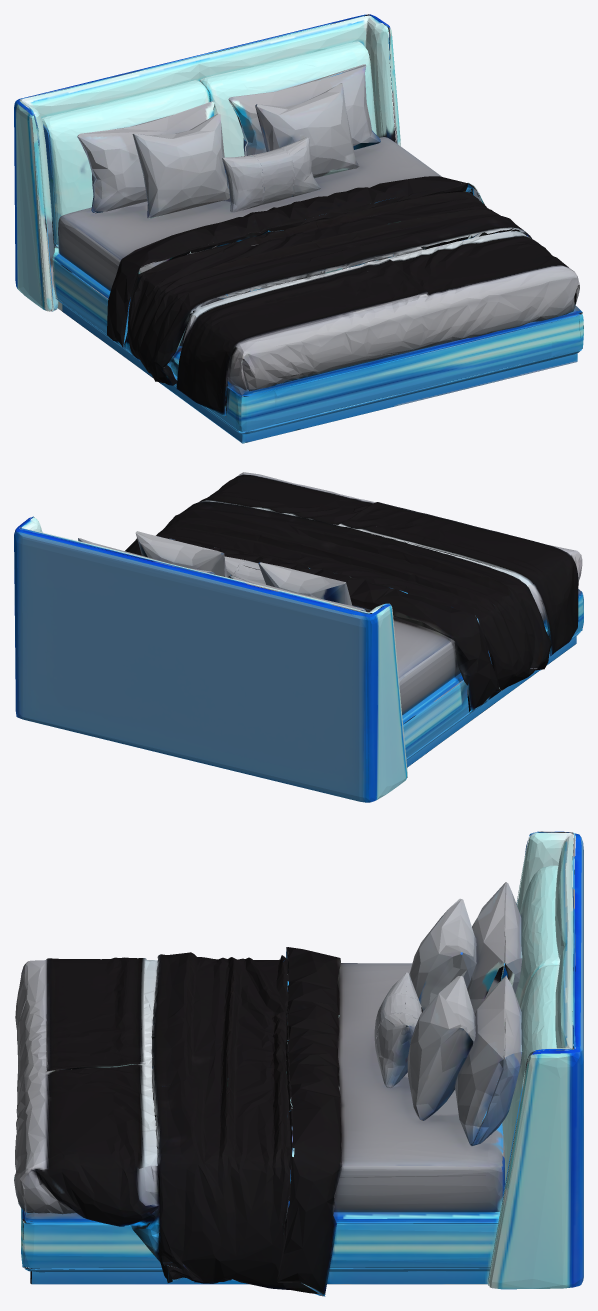
File: edited_mesh.glb
3 views of the same model, one above another, from view 1: azimuth 30°, elevation 25°; view 2: azimuth 150°, elevation 25°; view 3: azimuth 270°, elevation 25° (orthographic). The views are drawn at different scales.
Visible parts, largest first — view 1: solid_001_wire; view 2: solid_001_wire; view 3: solid_001_wire.
Part boxes in pixels (left/top/right/bottom): solid_001_wire: left=14, top=14, right=583, bottom=443; solid_001_wire: left=14, top=472, right=583, bottom=802; solid_001_wire: left=14, top=831, right=583, bottom=1296.
Size of the model in its own units: 2 by 0.9449 by 1.97.
Materials: 1 (1 with a texture image).
